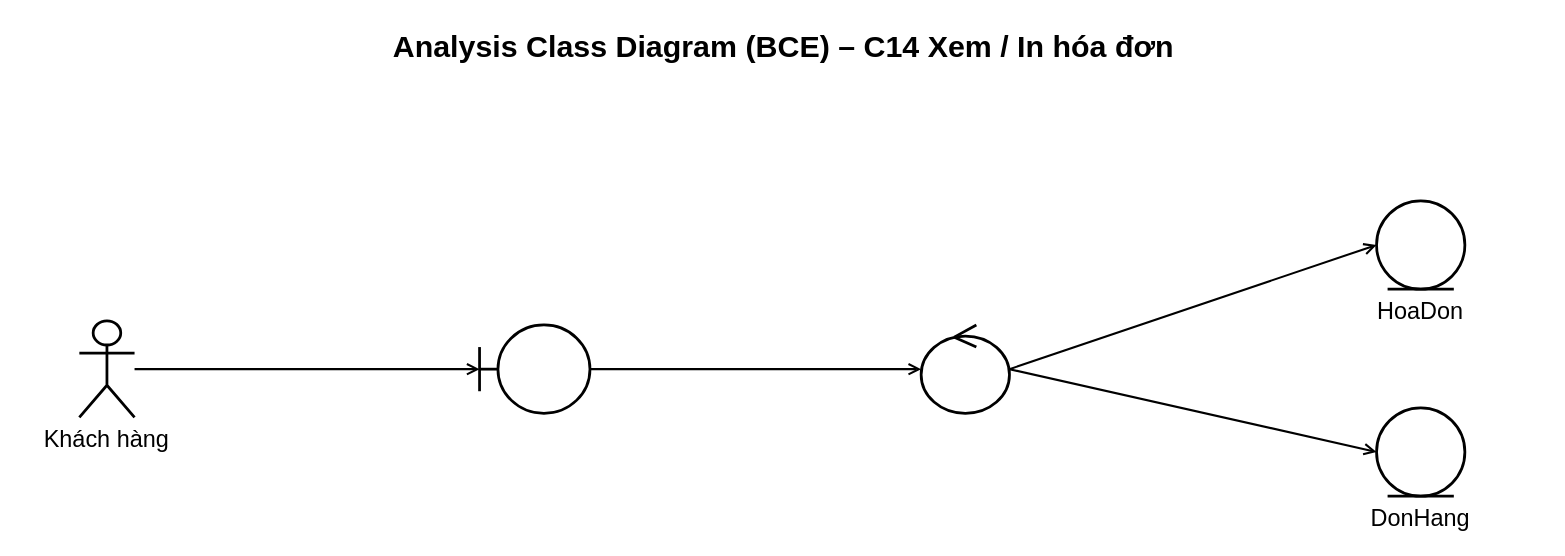
The diagram is 1565 pixels wide and 556 high, and some of its shapes have lost their labels. Here are the shapes that lost their labels. From the top down, the centre of each, then its label:
At pixel 534 368: "XemHoaDonPage".
At pixel 964 368: "XemHoaDonController".
